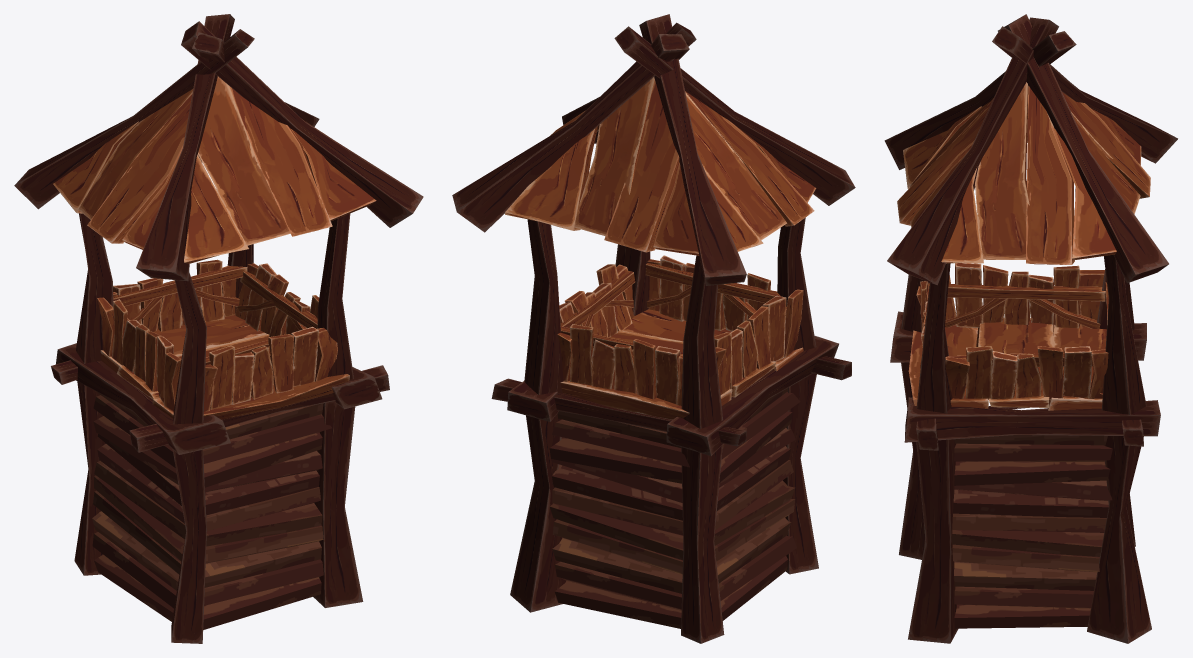
Rendered from watchtower-2.glb.
The picture shows the model from 3 angles, left to right: view 1: azimuth 30°, elevation 25°; view 2: azimuth 150°, elevation 25°; view 3: azimuth 270°, elevation 25°; orthographic projection. The views are drawn at different scales.
Visible parts, largest first — view 1: SM_PROP_watchtower_wood_02; view 2: SM_PROP_watchtower_wood_02; view 3: SM_PROP_watchtower_wood_02.
Boxes of the visible parts, x1,y1,x2,y2 form: SM_PROP_watchtower_wood_02: (14, 14, 423, 643); SM_PROP_watchtower_wood_02: (452, 14, 855, 643); SM_PROP_watchtower_wood_02: (884, 14, 1177, 643).
Size of the model in its own units: 7.34 by 13.1 by 6.08.
3 materials, 3 textured.
